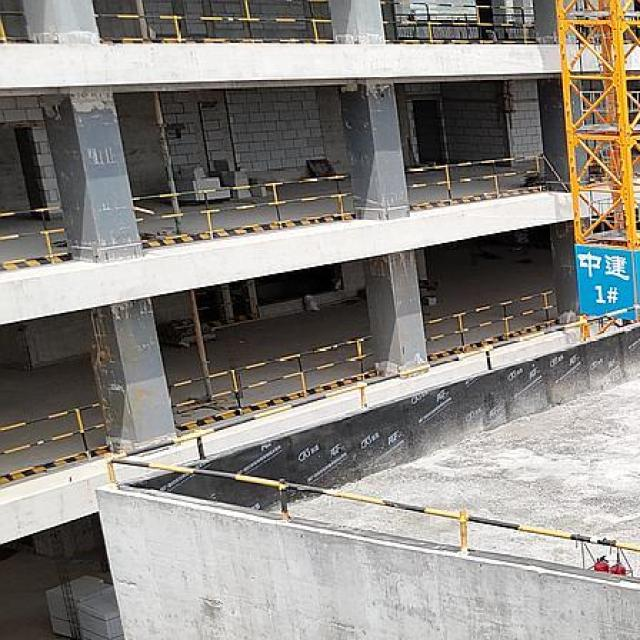edge_guardrail: (108, 300, 640, 553), (165, 334, 378, 430), (133, 174, 357, 246), (94, 0, 333, 46), (422, 289, 558, 360), (0, 400, 109, 480), (404, 155, 549, 208), (380, 0, 540, 44), (0, 205, 71, 268), (0, 11, 30, 44)
